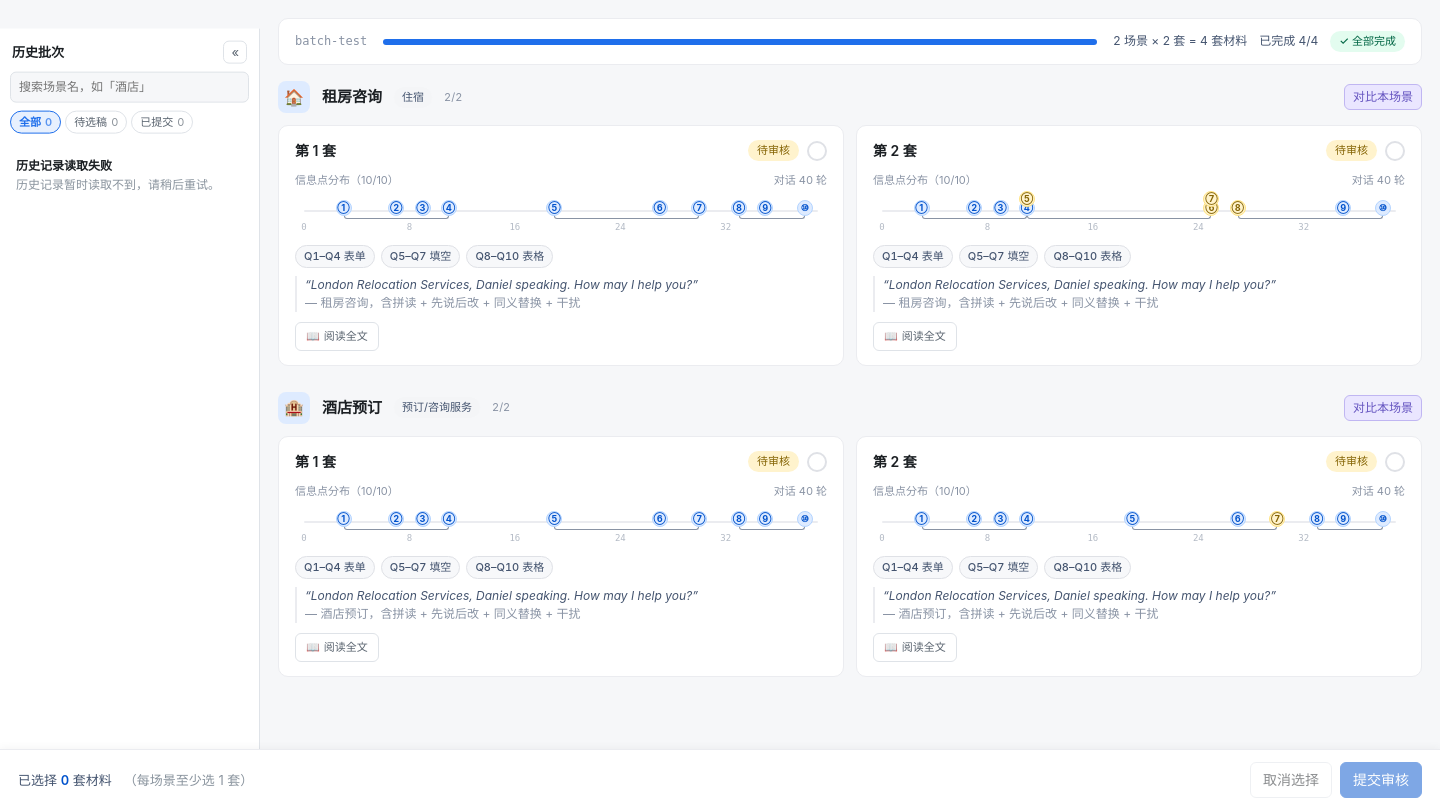
it: compare mode › opens an inline preview when two cards are picked, and does NOT navigate
Click the button "对比本场景" in the row of "住宿" at x=1383, y=97, box [1344,84,1422,110]
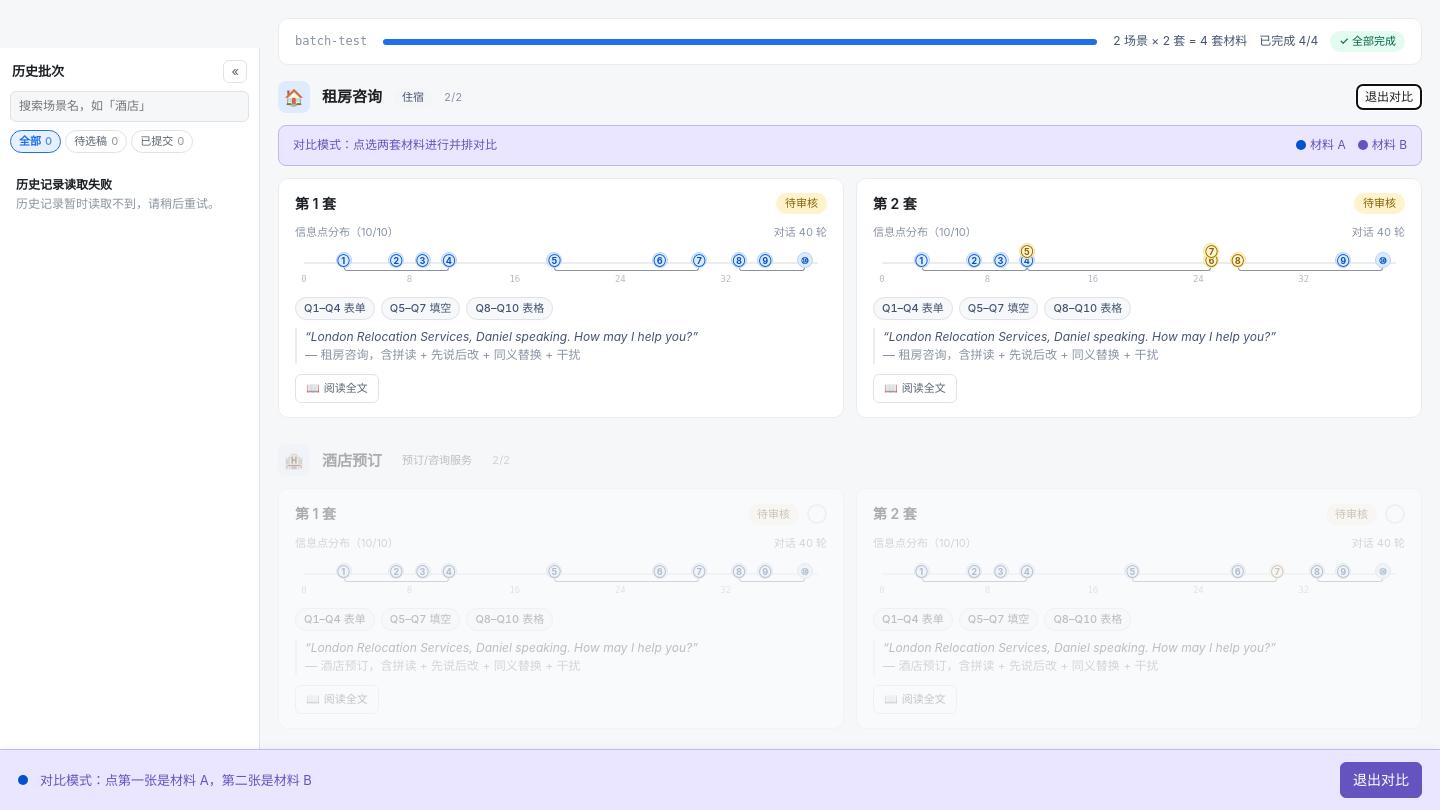
Click the button with aria-label "第 1 套：点选进入对比" at x=315, y=203, box [278,178,844,418]
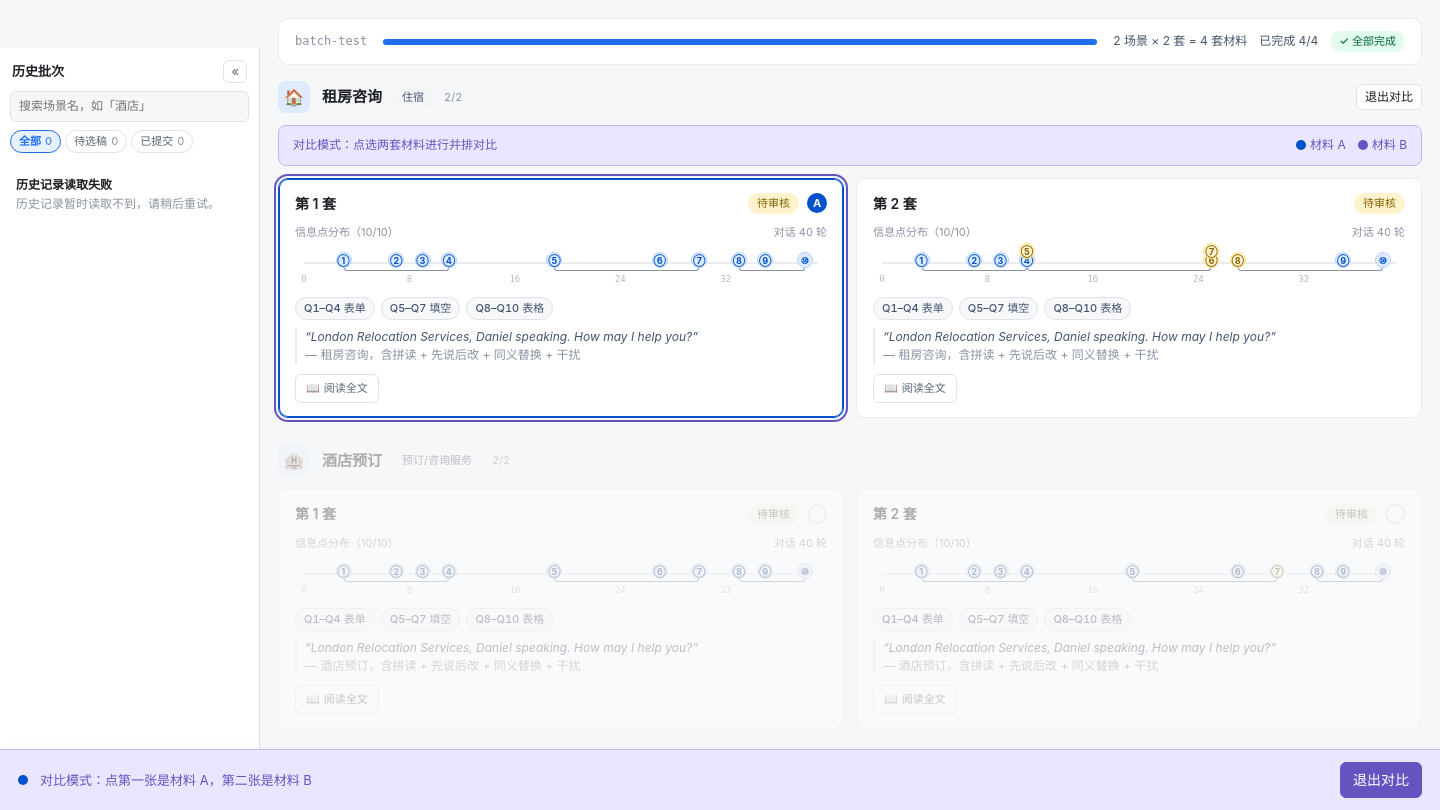
Check: the button named "第 1 套：点选进入对比" has class "pick-a", box [278,178,844,418]
Click the button with aria-label "第 2 套：点选进入对比" at x=895, y=203, box [856,178,1422,418]
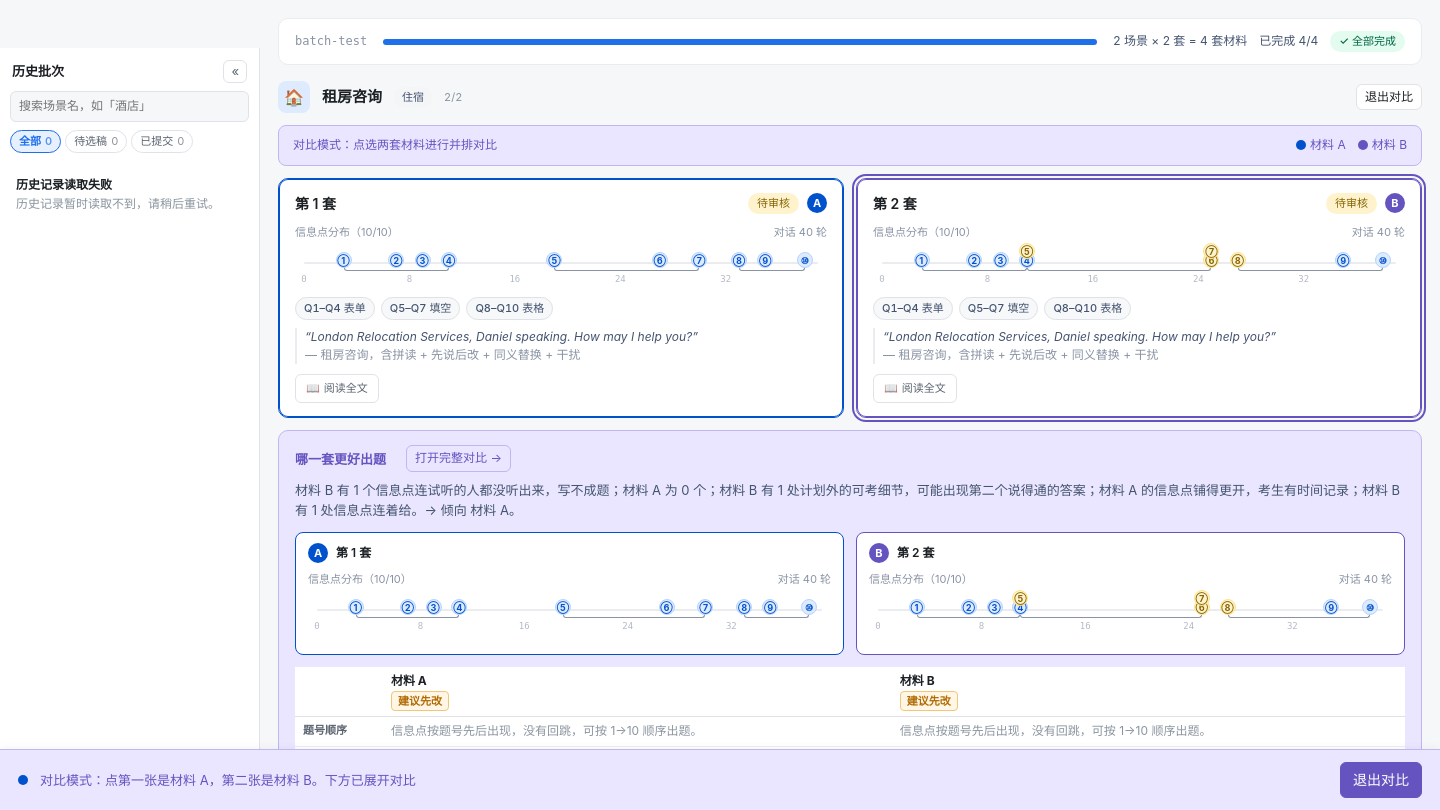
Check: the text "哪一套更好出题" is shown, box [295,449,386,469]
